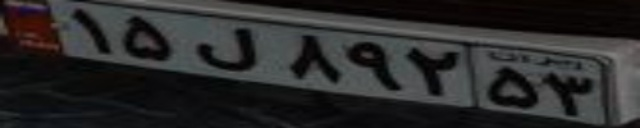1: (70, 6, 108, 55)
2: (405, 46, 462, 97)
3: (541, 71, 598, 117)
5: (117, 14, 173, 60), (483, 65, 540, 109)
8: (287, 33, 341, 83)
9: (343, 38, 400, 90)
lam: (193, 25, 259, 72)
